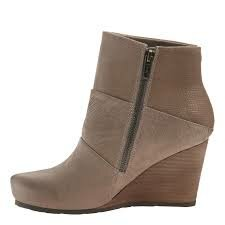Ankle boots: (5, 28, 217, 218)
